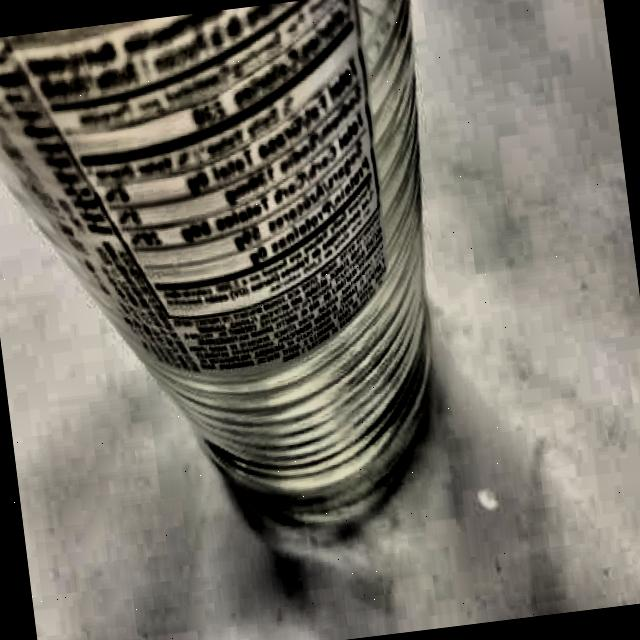glass: (0, 0, 477, 563)
